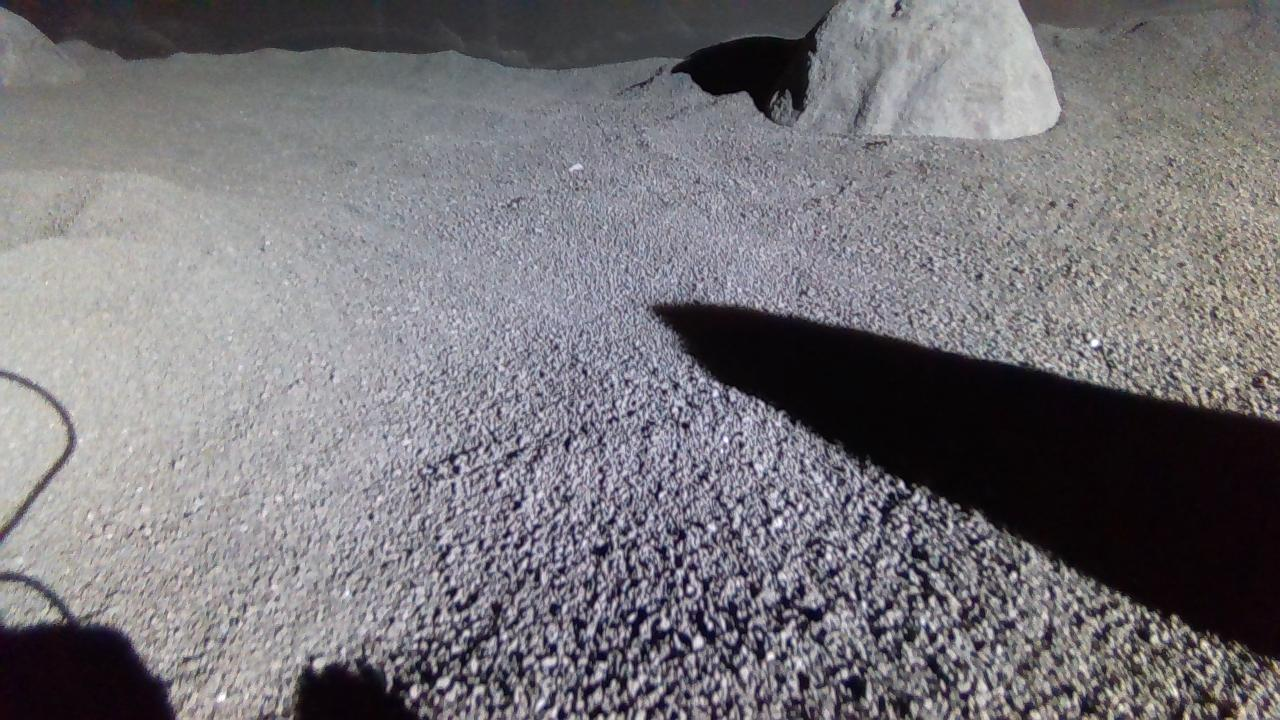rock: (770, 0, 1062, 138), (0, 6, 83, 84)
